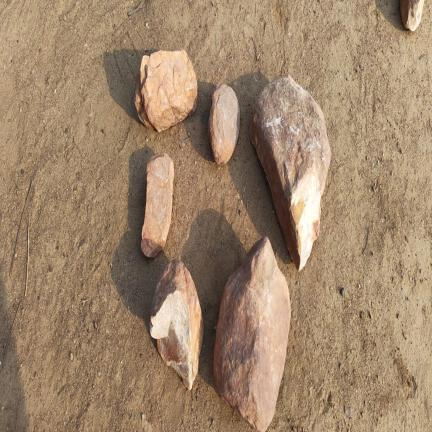Rocks: (250, 77, 330, 269), (214, 238, 290, 430), (150, 260, 203, 389), (135, 51, 197, 131), (141, 154, 173, 257), (209, 85, 239, 164), (400, 0, 424, 30), (345, 406, 351, 419)
